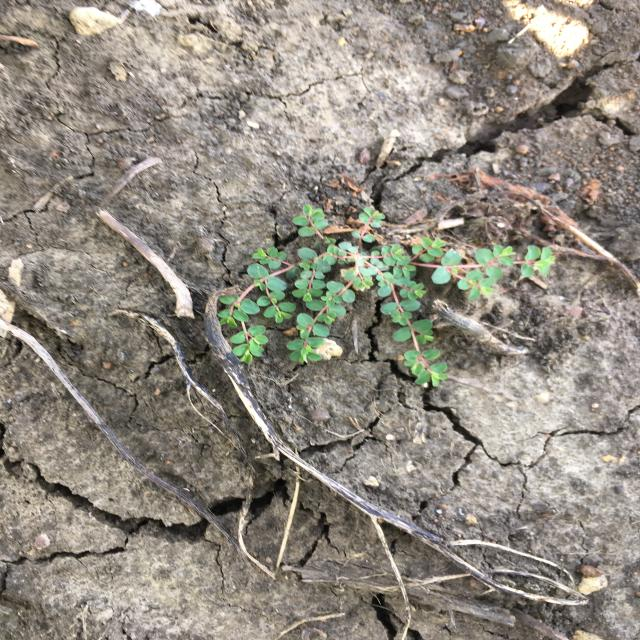SpottedSpurge: (216, 203, 559, 392)
